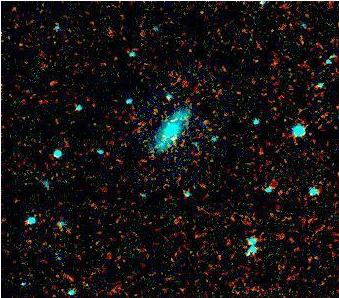star: (164, 201, 194, 231)
